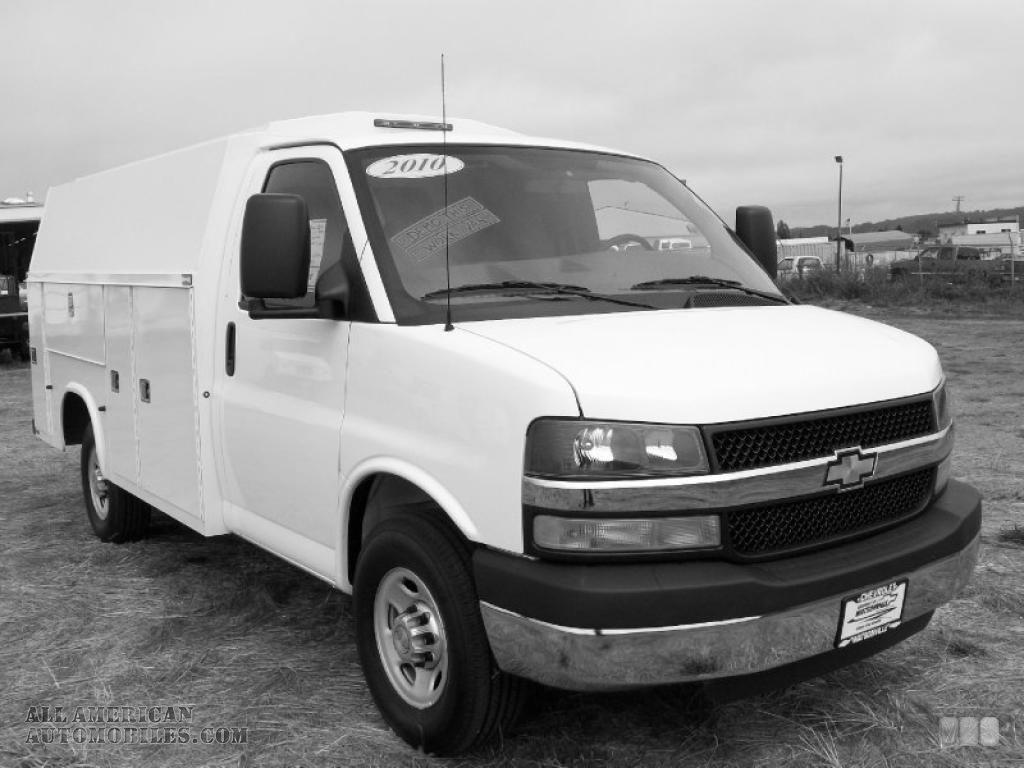car: (24, 49, 996, 767)
